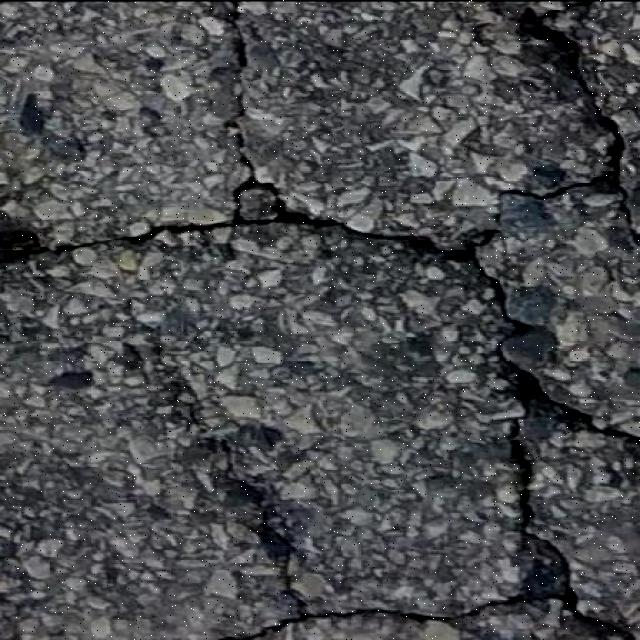Crack: (0, 108, 463, 266), (348, 354, 598, 621), (139, 348, 332, 638), (519, 0, 599, 109), (470, 232, 528, 347), (602, 110, 639, 234), (564, 402, 639, 448), (218, 0, 252, 72), (501, 174, 601, 198), (618, 625, 639, 636)
